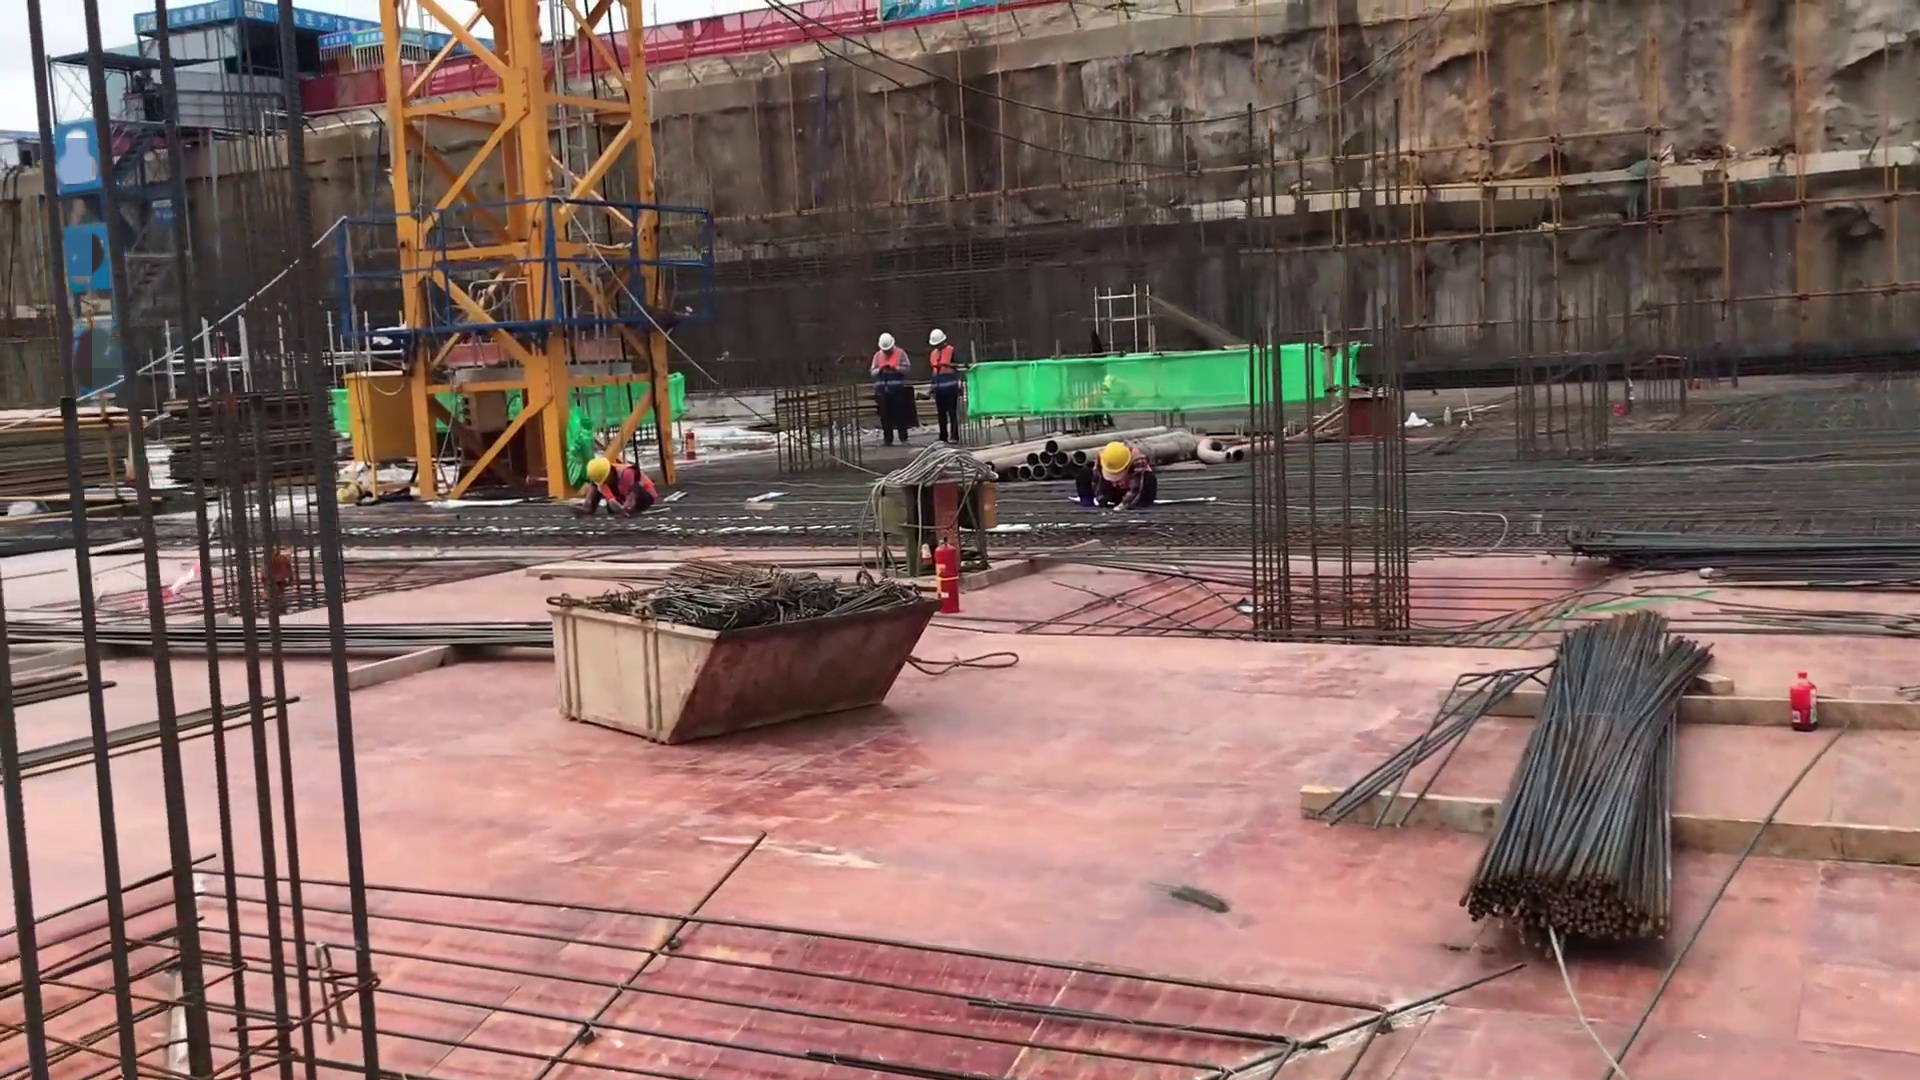board: (1, 408, 130, 493)
ebox: (342, 368, 418, 498), (457, 366, 511, 430)
helmet: (1099, 441, 1132, 474), (587, 458, 610, 486), (878, 333, 895, 351), (929, 330, 947, 346)
hopper: (530, 563, 951, 752)
person: (1070, 439, 1161, 515), (868, 330, 921, 448), (570, 455, 659, 523), (926, 328, 967, 446)
rebar: (1475, 608, 1692, 953), (1576, 535, 1920, 580)
vest: (599, 465, 657, 517), (930, 346, 955, 395), (877, 348, 901, 398)
